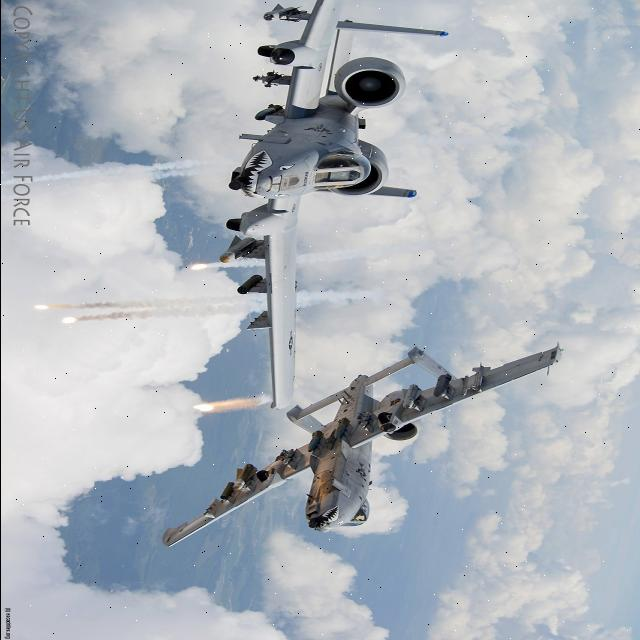A10: (72, 8, 504, 420), (126, 290, 604, 586)
